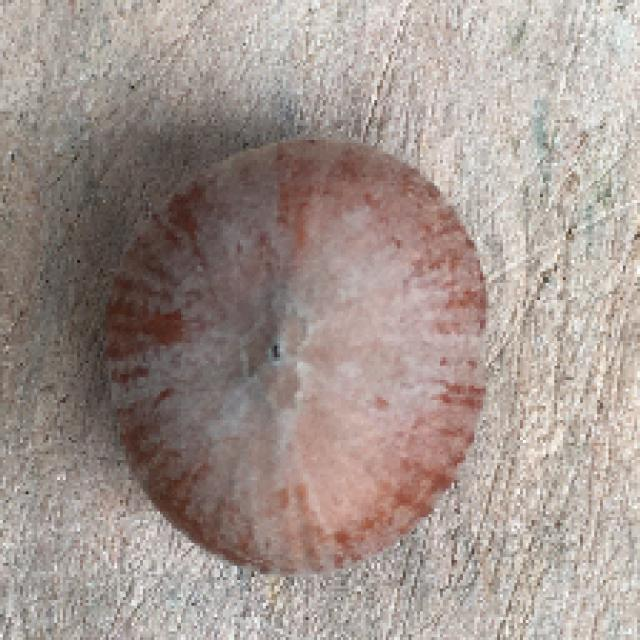qualityHazelnut: (96, 132, 493, 578)
